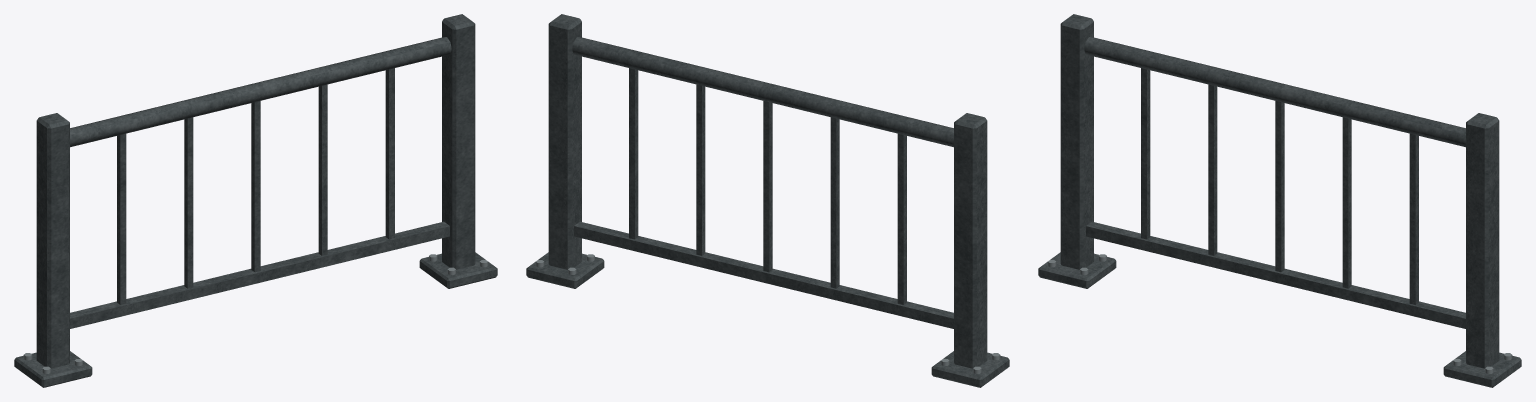
Rendered from QUEUE_RAILING_v01.fbx.
The picture shows the model from 3 angles, left to right: view 1: azimuth 30°, elevation 25°; view 2: azimuth 150°, elevation 25°; view 3: azimuth 330°, elevation 25°; orthographic projection.
Parts seen in each view (by area): view 1: LE_QUEUE_RAILING_Mesh; view 2: LE_QUEUE_RAILING_Mesh; view 3: LE_QUEUE_RAILING_Mesh.
Part boxes in pixels (box(x1,y1,x2,y2)): LE_QUEUE_RAILING_Mesh: box(14, 14, 497, 387); LE_QUEUE_RAILING_Mesh: box(526, 14, 1009, 387); LE_QUEUE_RAILING_Mesh: box(1038, 14, 1521, 387).
Bounding box in the file's own units: 2.07 × 1.1 × 0.23.
Materials: 2 (1 with a texture image).
